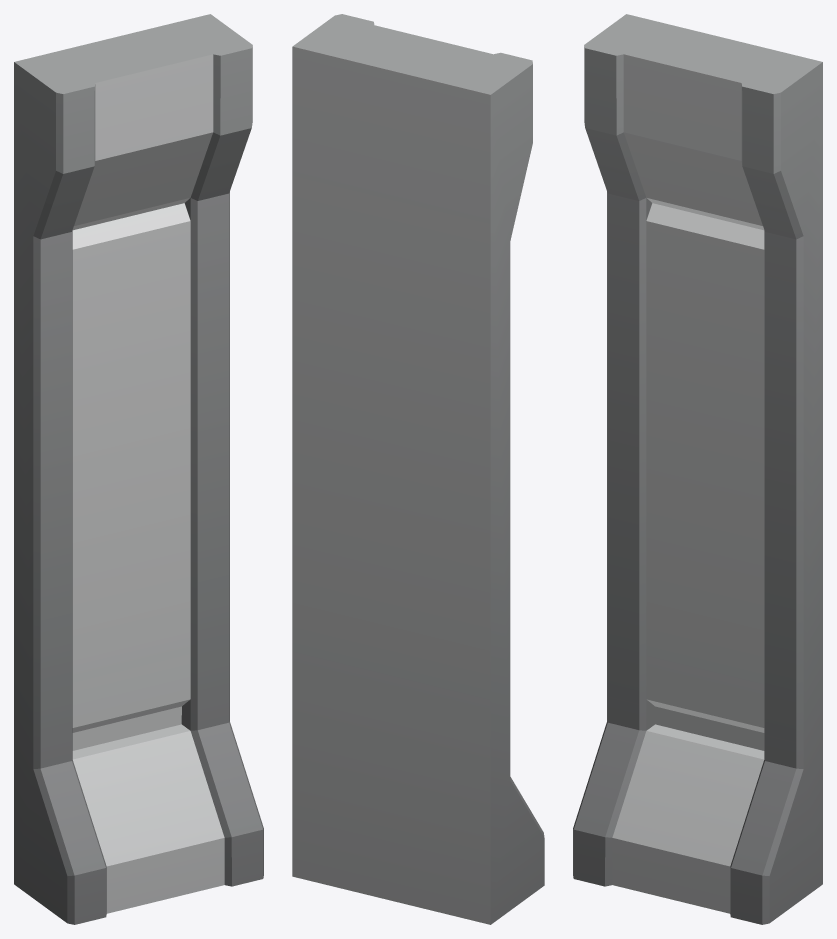
The model's file is Wall_type_A_005.fbx.
3 views of the same model, side by side, from view 1: azimuth 30°, elevation 25°; view 2: azimuth 150°, elevation 25°; view 3: azimuth 330°, elevation 25° (orthographic).
Parts seen in each view (by area): view 1: Wall_type_A_005; view 2: Wall_type_A_005; view 3: Wall_type_A_005.
Part boxes in pixels (box(x1,y1,x2,y2)): Wall_type_A_005: box(14, 14, 263, 924); Wall_type_A_005: box(292, 14, 544, 924); Wall_type_A_005: box(573, 14, 822, 924).
Size of the model in its own units: 100 by 50 by 400.
